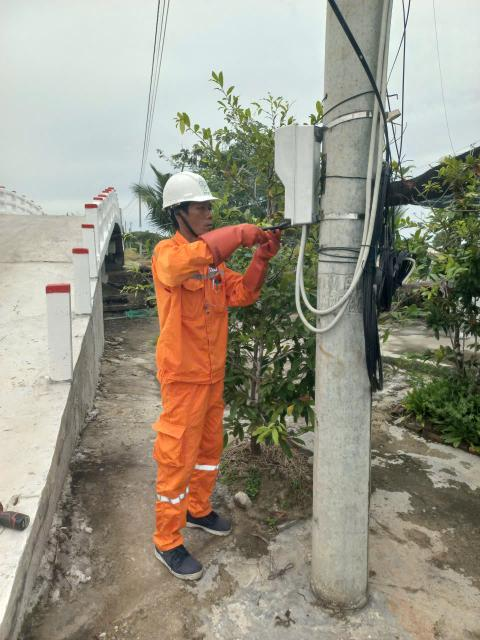gloves: (230, 227, 286, 284), (194, 222, 264, 256)
helmet: (156, 155, 232, 217)
shoes: (148, 530, 215, 588), (184, 501, 243, 546)
